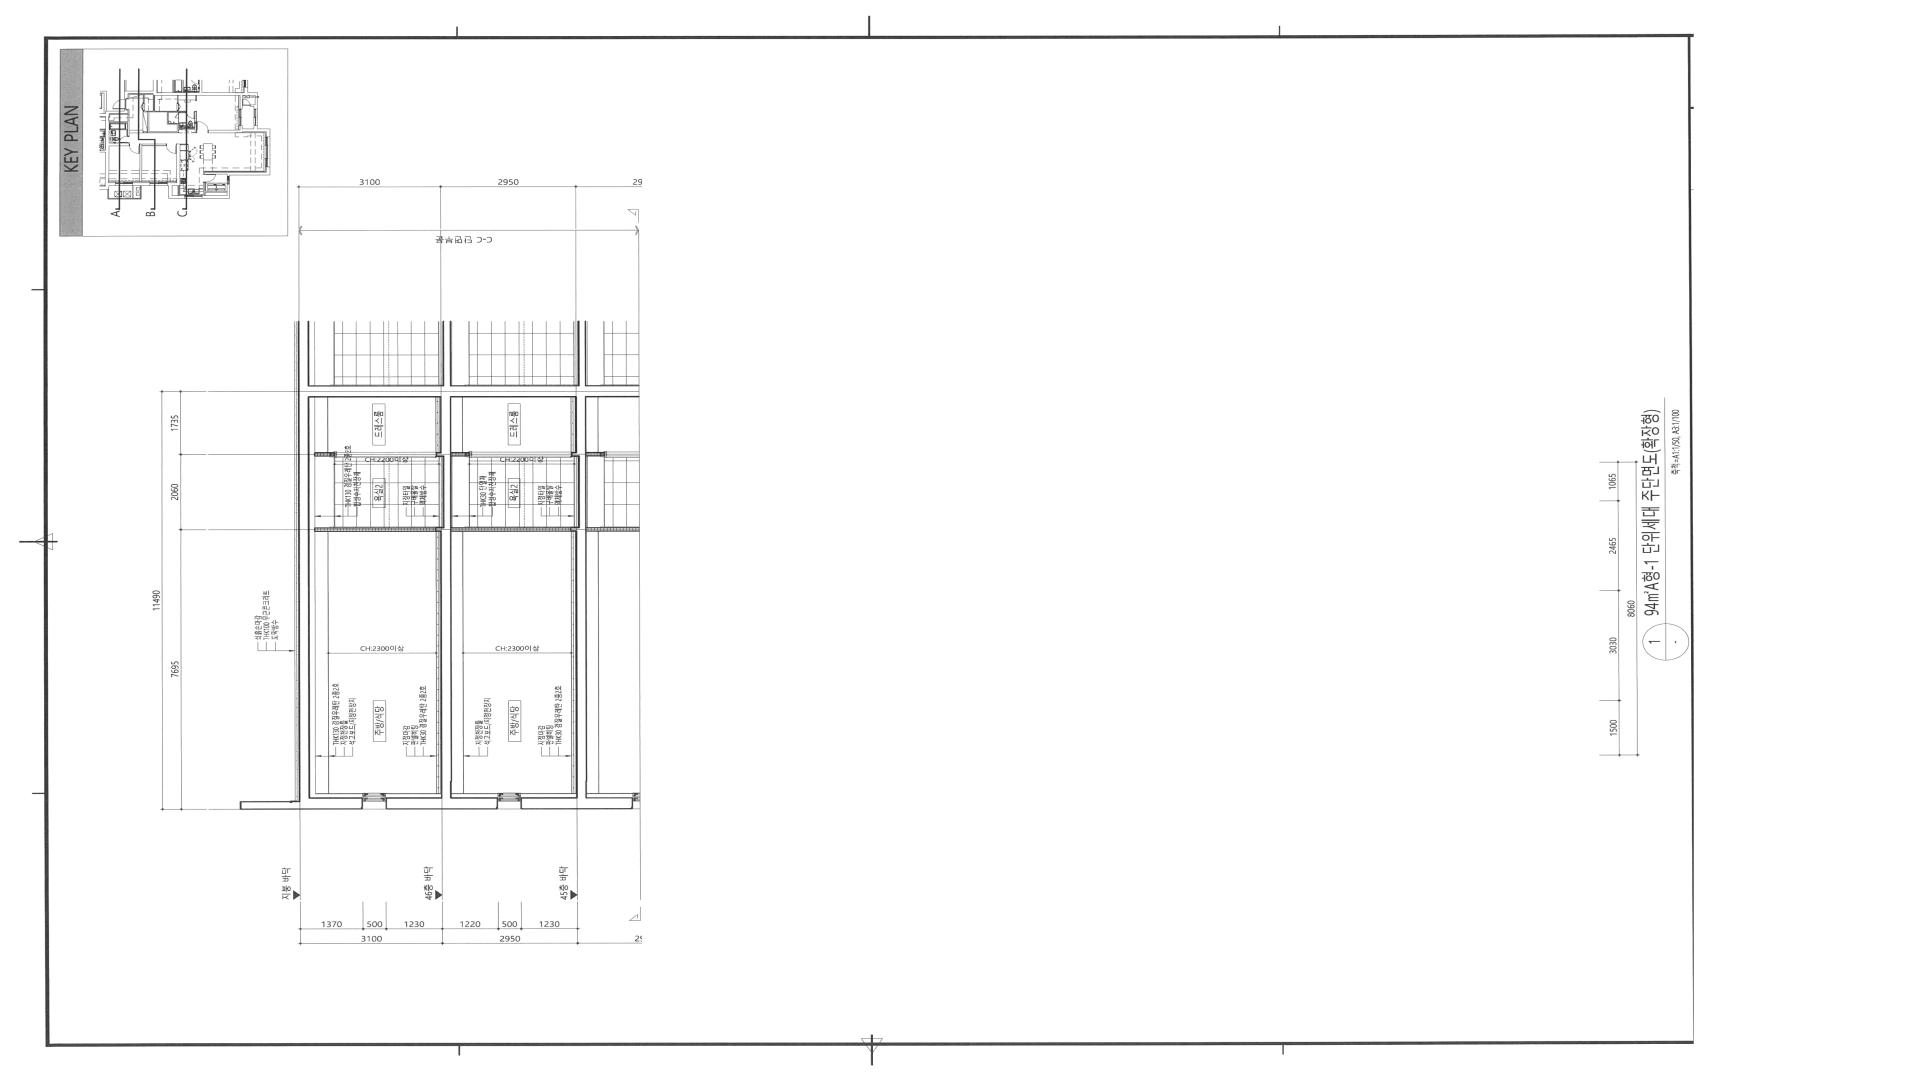background: (0, 0, 1920, 1080)
door: (469, 452, 571, 458), (335, 452, 435, 458)
wall: (240, 385, 639, 810), (309, 397, 362, 798), (314, 527, 435, 532), (451, 527, 570, 532), (521, 793, 577, 797), (386, 793, 442, 797), (452, 793, 498, 797), (314, 452, 335, 457), (451, 452, 469, 457)
window: (498, 793, 521, 810), (362, 793, 386, 809)
